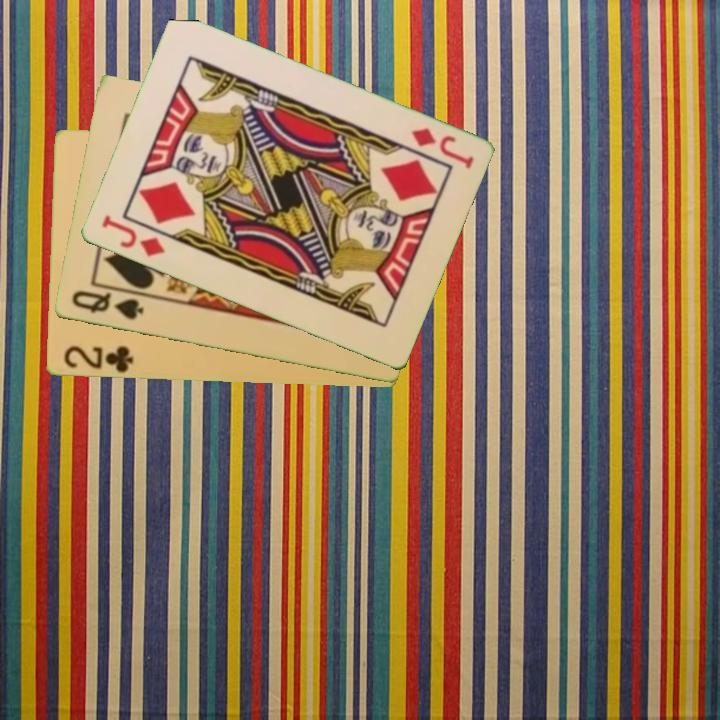2c: (60, 342, 136, 375)
Jd: (97, 211, 168, 260), (407, 124, 477, 172)
Qs: (68, 287, 147, 323)
